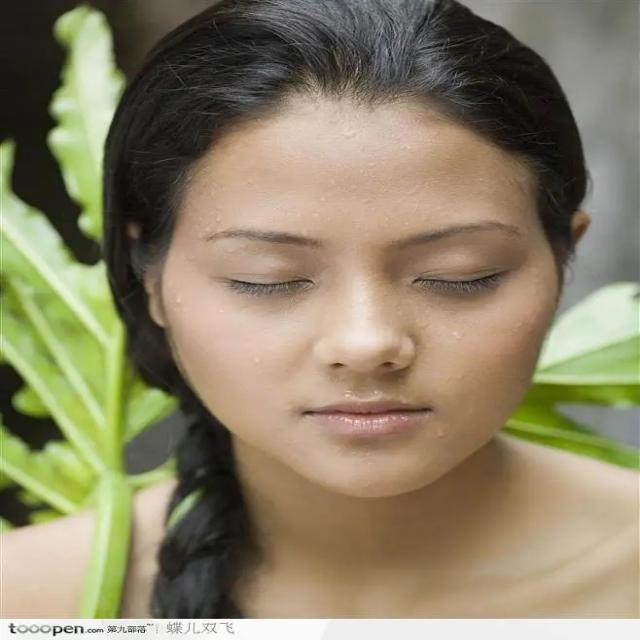Closed: (408, 262, 512, 294), (215, 271, 316, 297)
